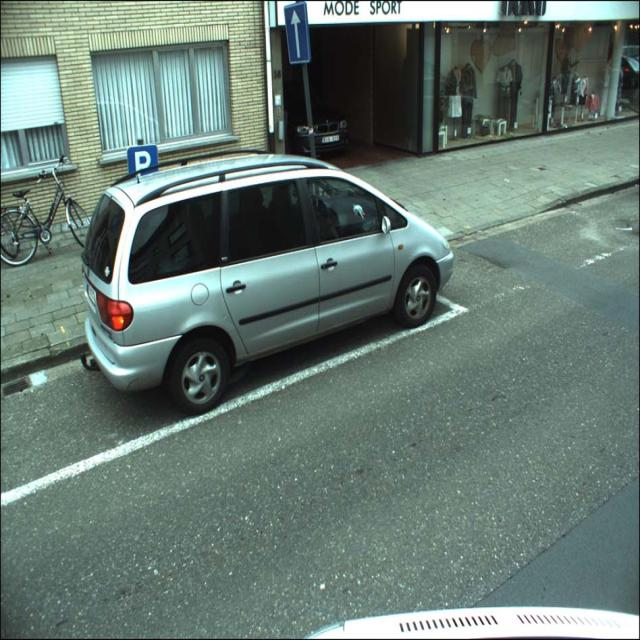park: (126, 145, 158, 189)
